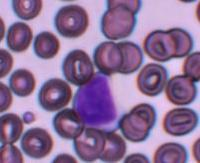L: (74, 71, 118, 128)
